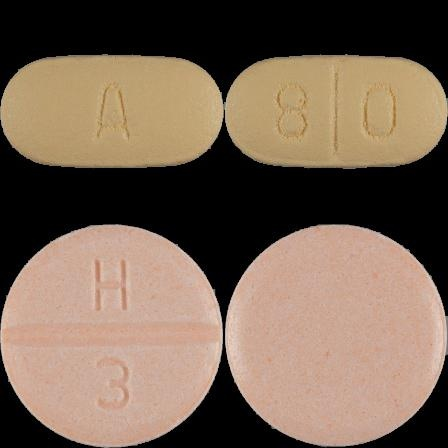50090-2140: (0, 0, 224, 224)
